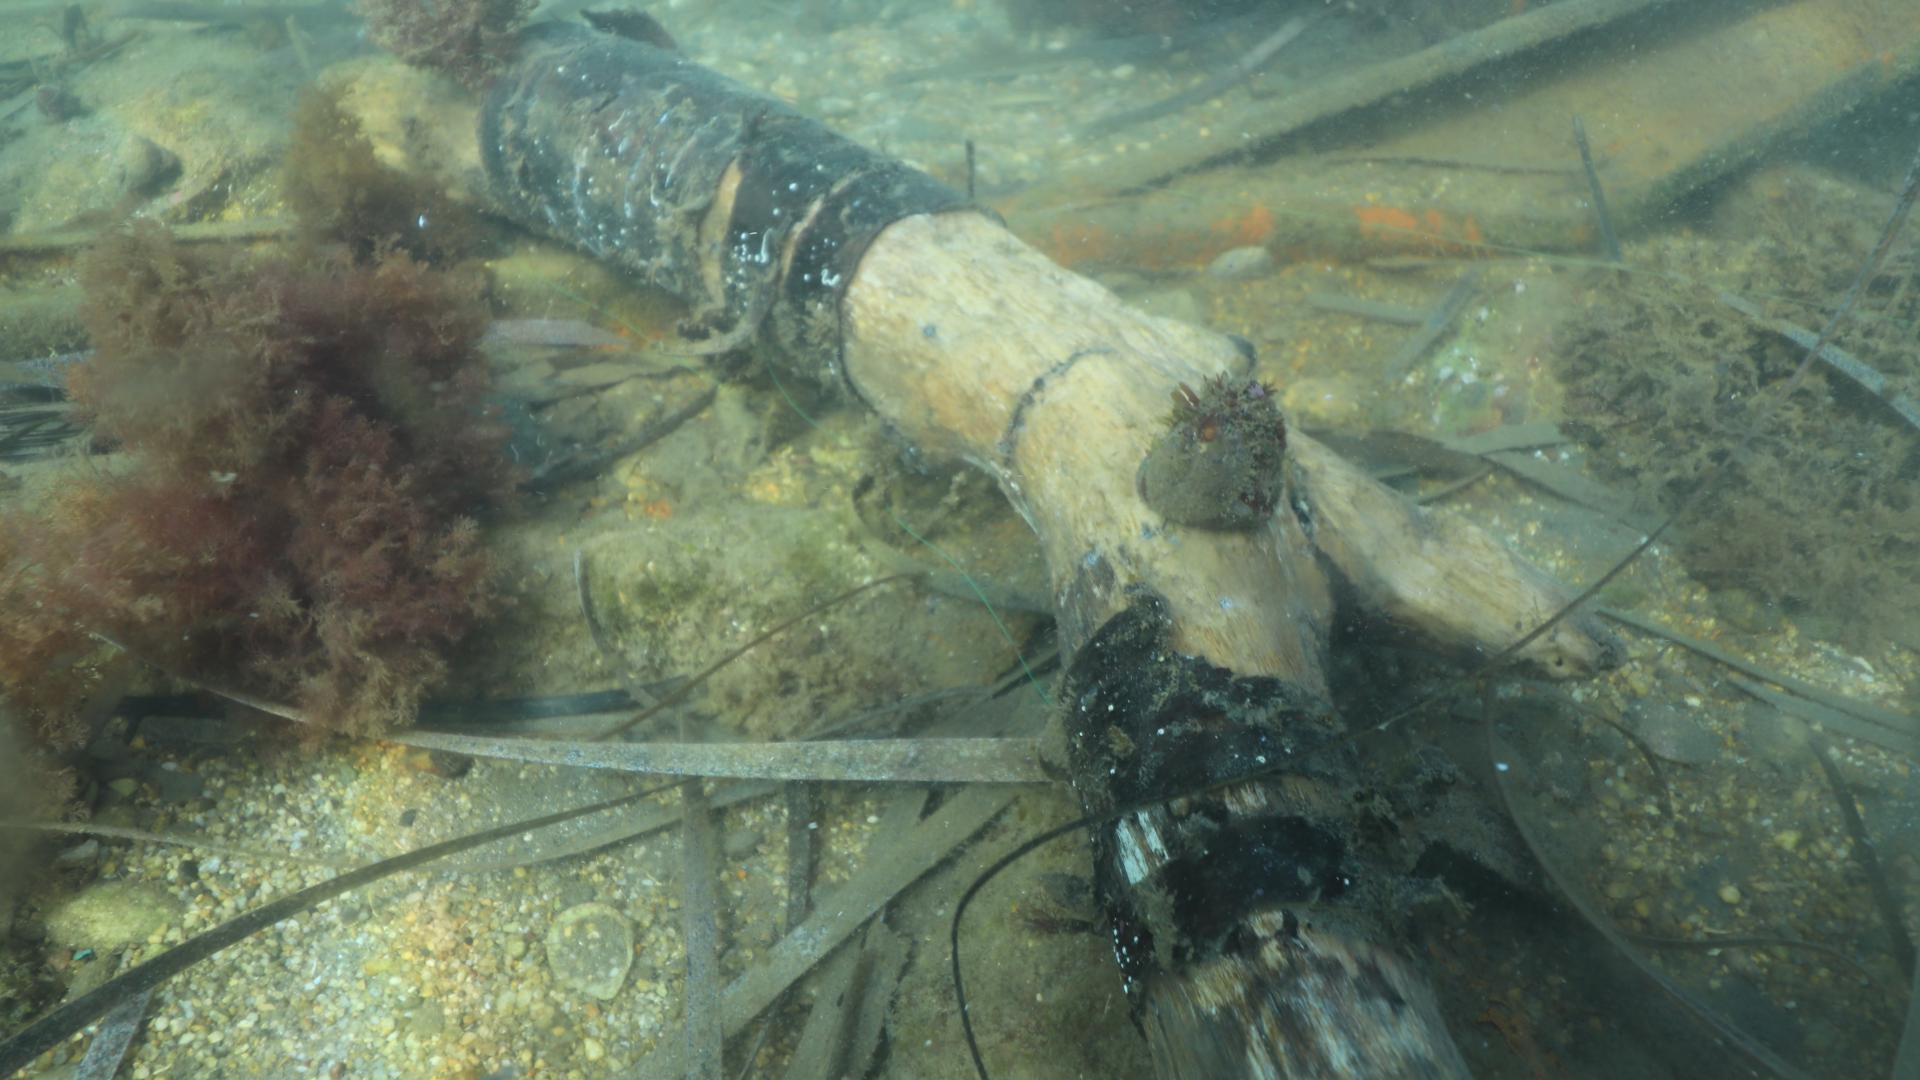wood: (459, 18, 1619, 1080)
